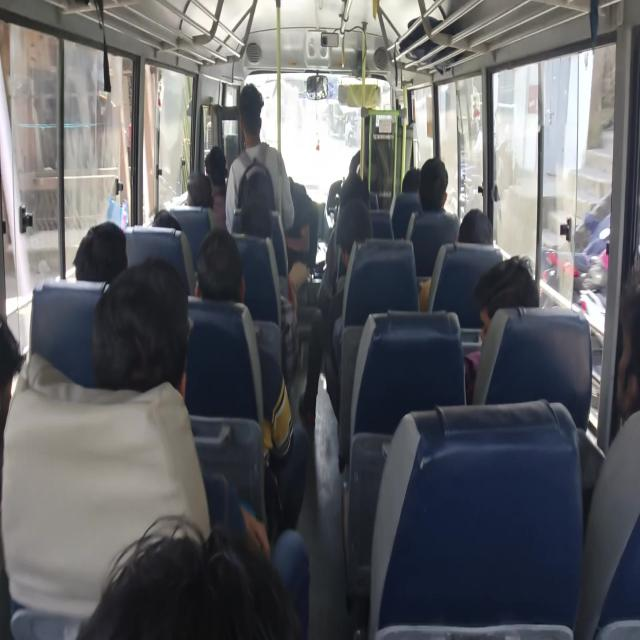person: (93, 519, 324, 640), (96, 276, 190, 392), (470, 272, 540, 350), (280, 163, 324, 282), (609, 273, 637, 421), (77, 222, 138, 289), (0, 284, 28, 419), (188, 234, 245, 288), (331, 213, 381, 272), (237, 76, 265, 152), (149, 196, 189, 246), (238, 179, 275, 230), (186, 163, 215, 224), (420, 166, 454, 215), (341, 171, 379, 210), (457, 210, 493, 249), (209, 137, 231, 175), (406, 168, 428, 202)
